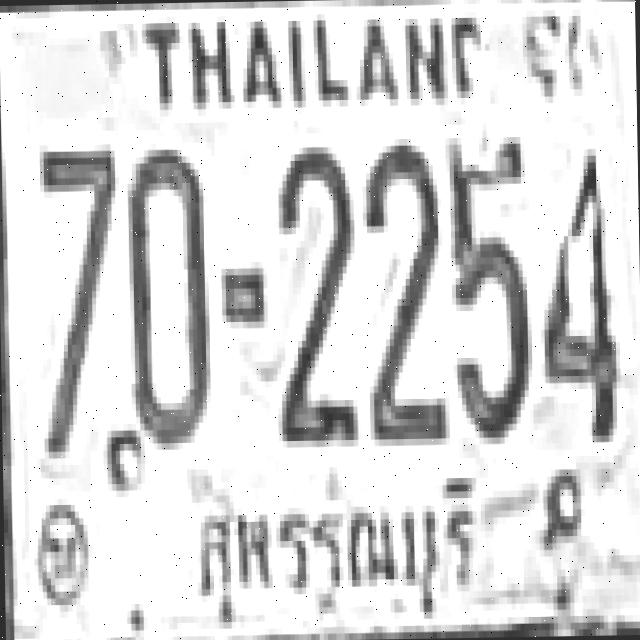0: (122, 142, 207, 443)
2: (358, 138, 444, 439), (272, 140, 354, 440)
4: (536, 142, 618, 436)
5: (444, 133, 530, 434)
7: (34, 144, 116, 452), (37, 143, 116, 358)
SuphanBuri: (188, 468, 492, 636)
